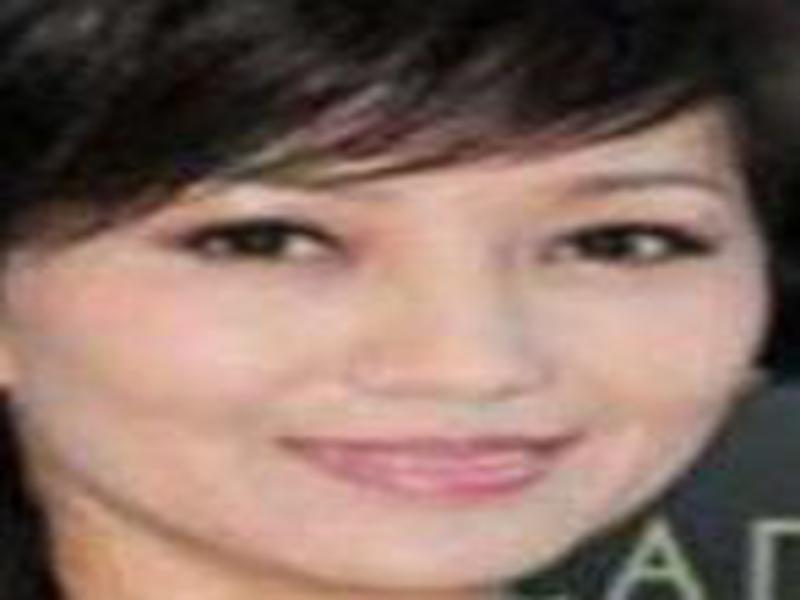without_mask: (33, 108, 751, 585)
